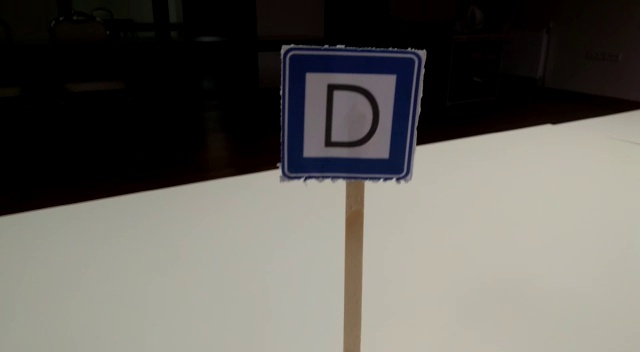durak: (280, 50, 421, 176)
